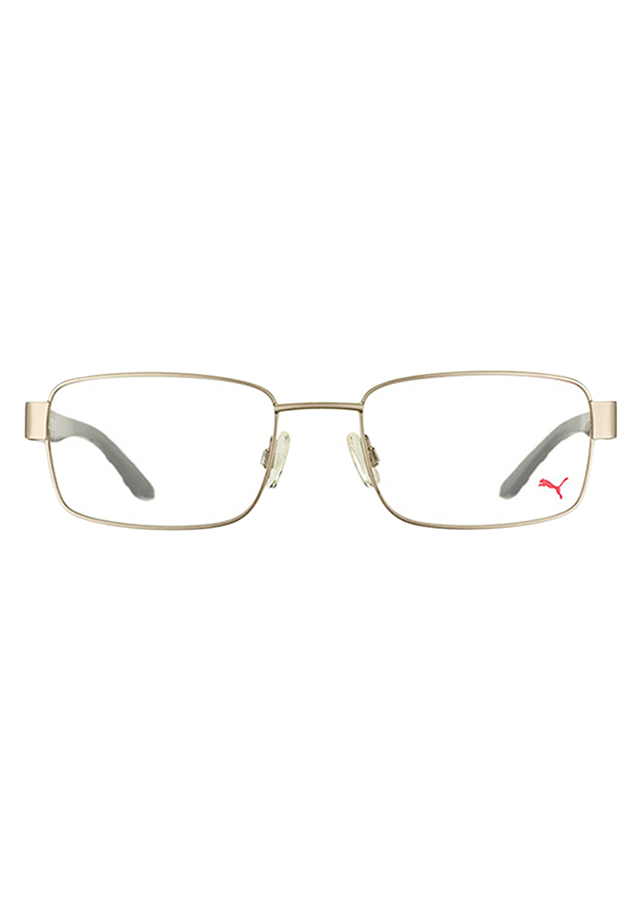Puma: (533, 470, 576, 508)
